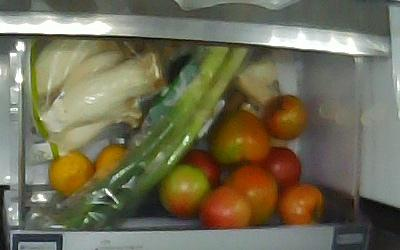tangerine: (47, 147, 93, 195), (94, 142, 132, 181)
tomato: (206, 108, 272, 164), (222, 163, 279, 224), (157, 162, 210, 216), (197, 184, 252, 228), (275, 181, 323, 225), (262, 93, 307, 139), (258, 145, 301, 189), (180, 149, 221, 190)
